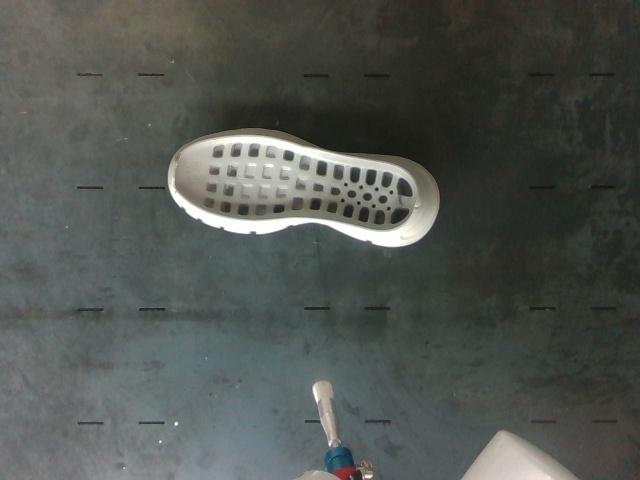shoes: (175, 137, 417, 230)
